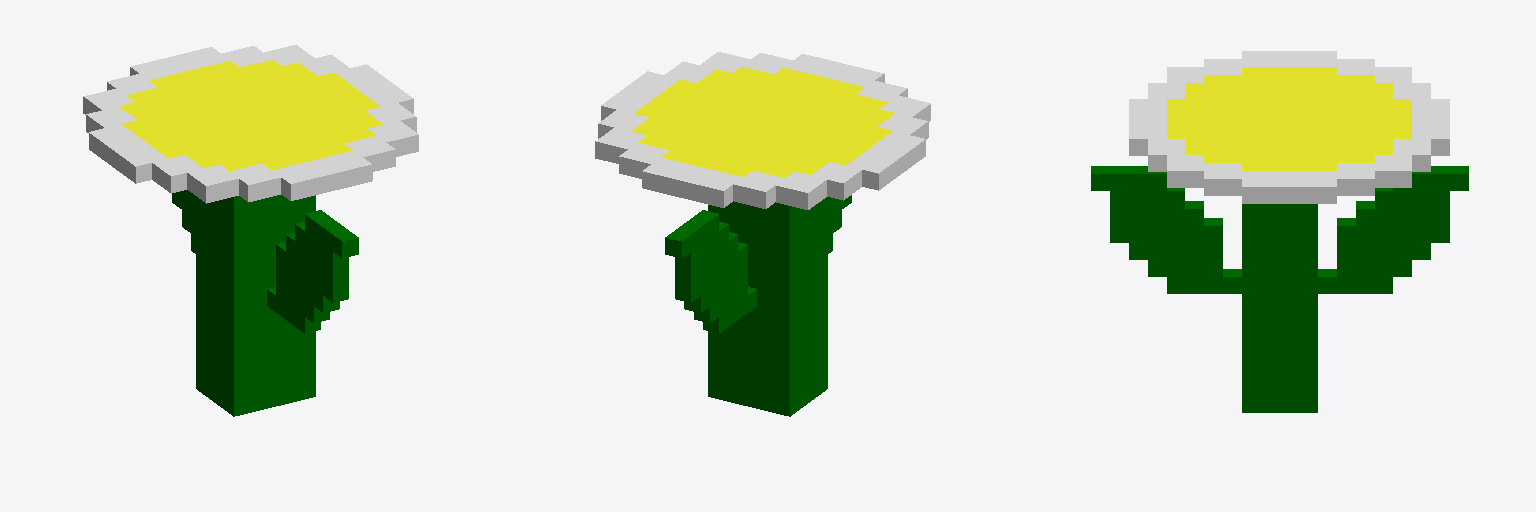
3 renders of one model, left to right at view 1: azimuth 30°, elevation 25°; view 2: azimuth 150°, elevation 25°; view 3: azimuth 270°, elevation 25°, orthographic.
Size of the model in its own units: 17 by 16 by 20.
1 materials, 1 textured.